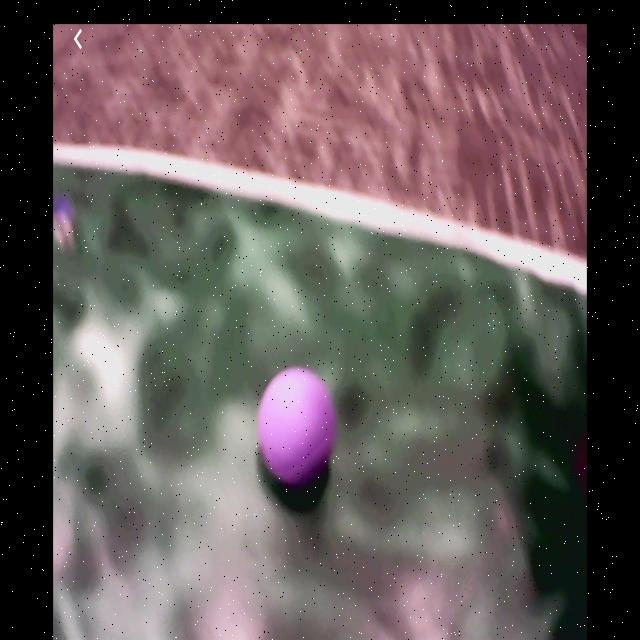ball: (258, 369, 335, 485)
